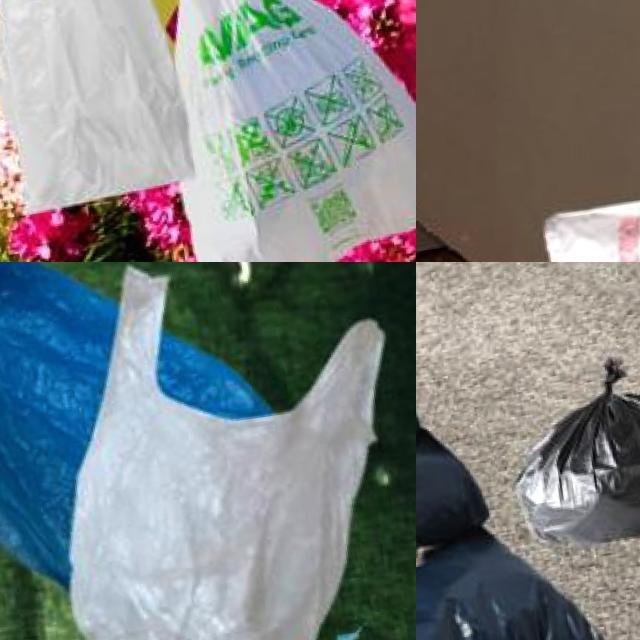waste: (19, 262, 416, 640), (0, 262, 294, 596), (157, 0, 416, 262), (0, 0, 205, 212), (416, 327, 517, 613), (507, 360, 640, 549), (416, 521, 621, 640), (519, 140, 640, 262)
